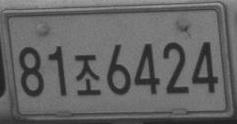1: (47, 45, 71, 96)
2: (161, 41, 189, 94)
4: (133, 42, 161, 93), (192, 41, 219, 93)
6: (105, 43, 131, 95)
8: (18, 46, 44, 98)
조: (74, 54, 101, 95)
